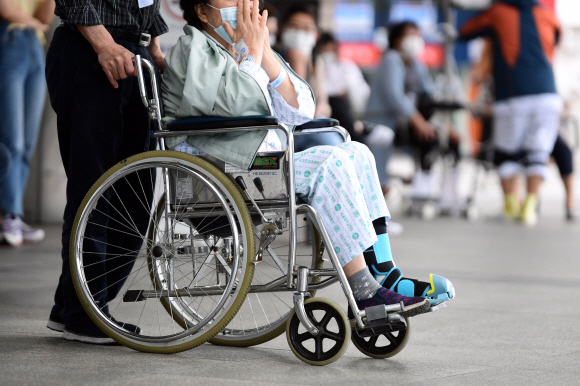wheelchair: (73, 2, 454, 366)
